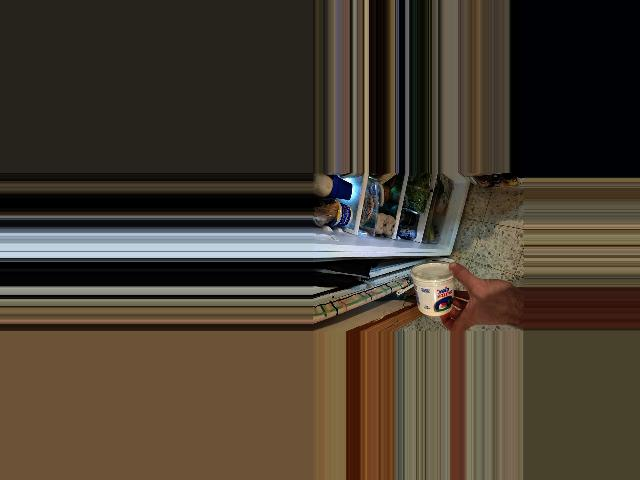cotage: (409, 258, 466, 321)
